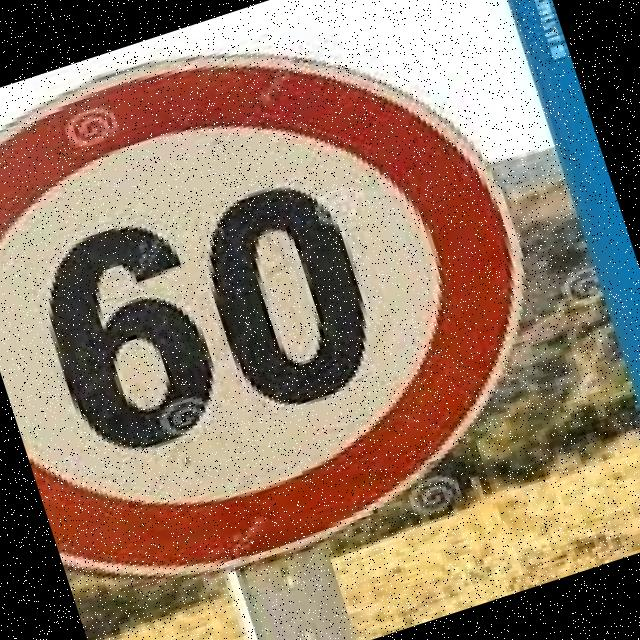speed_limit_60: (0, 0, 604, 620)
